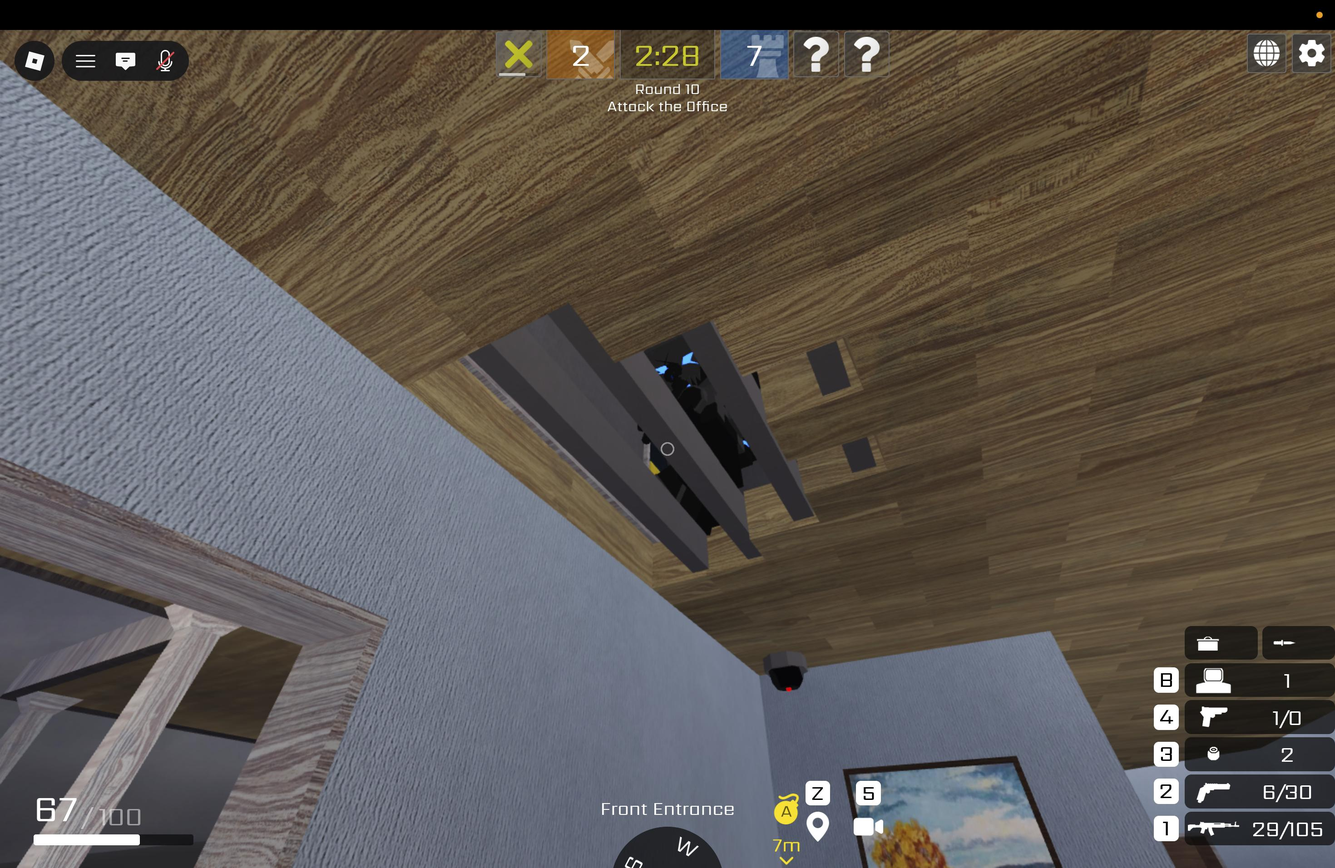enemy: (638, 322, 761, 538)
